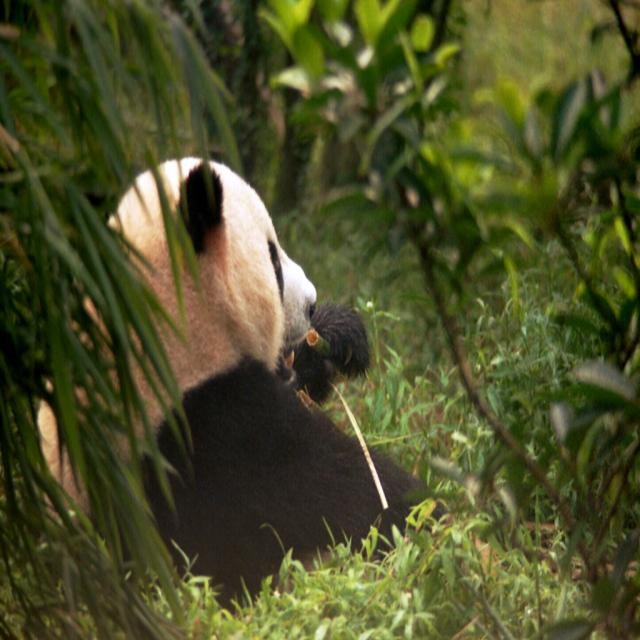panda: (39, 148, 450, 614)
